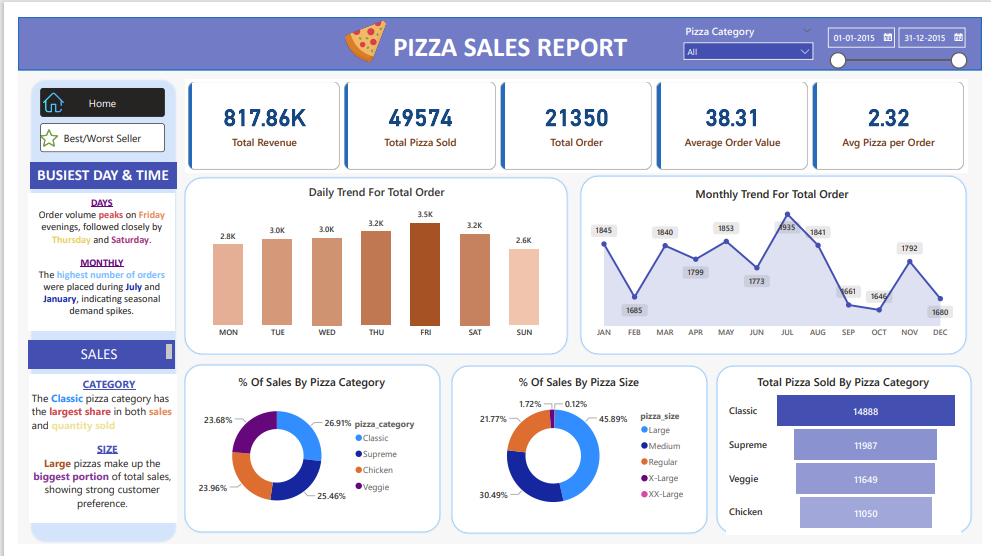

Layout of this report page (visuals, bound fields, positions):
{"tool":"powerbi","page":{"name":"Home","canvas":[1500,820],"ordinal":0},"visuals":[{"type":"cardVisual","fields":{"Data":["pizza_sales.Total_Revenue","pizza_sales.Total_Pizza_Sold","pizza_sales.Total_Order","pizza_sales.Average_Order_Value","pizza_sales.Avg_Pizza_per_Order"]},"box":[260,96,1218,146],"z":0},{"type":"shape","box":[0,0,1500,82],"z":1000},{"type":"textbox","box":[564,14,404,68],"z":2000},{"type":"shape","box":[258,248,598,278],"z":3000},{"type":"columnChart","title":"Daily Trend For Total Order","fields":{"Y":["pizza_sales.Total_Order"],"Category":["pizza_sales.Order Day"]},"box":[268,260,580,250],"z":4000},{"type":"shape","box":[874,246,604,280],"z":5000},{"type":"shape","box":[18,96,230,724],"z":6000},{"type":"areaChart","title":"Monthly Trend For Total Order","fields":{"Y":["pizza_sales.Total_Order"],"Category":["pizza_sales.Order Month"]},"box":[888,262,572,248],"z":7000},{"type":"shape","box":[258,540,400,264],"z":8000},{"type":"shape","box":[674,542,400,264],"z":9000},{"type":"shape","box":[1086,542,400,264],"z":10000},{"type":"donutChart","title":"% Of Sales By Pizza Category","fields":{"Y":["pizza_sales.Total_Revenue"],"Category":["pizza_sales.pizza_category"]},"box":[276,556,362,232],"z":11000},{"type":"donutChart","title":"% Of Sales By Pizza Size","fields":{"Y":["pizza_sales.Total_Revenue"],"Category":["pizza_sales.pizza_size"]},"box":[692,556,362,232],"z":12000},{"type":"funnel","title":"Total Pizza Sold By Pizza Category","fields":{"Y":["pizza_sales.Total_Pizza_Sold"],"Category":["pizza_sales.pizza_category"]},"box":[1102,556,366,250],"z":13000},{"type":"textbox","box":[18,226,228,42],"z":14000},{"type":"textbox","box":[16,504,228,44],"z":15000},{"type":"textbox","box":[16,274,228,214],"z":16000},{"type":"textbox","box":[16,556,230,232],"z":17000},{"type":"slicer","fields":{"Values":["pizza_sales.pizza_category"]},"box":[1026,6,222,70],"z":17001},{"type":"slicer","fields":{"Values":["pizza_sales.order_date"]},"box":[1248,6,238,90],"z":17002},{"type":"pageNavigator","box":[34,110,194,100],"z":17003},{"type":"image","box":[34,96,42,74],"z":17004},{"type":"image","box":[20,170,56,36],"z":17005},{"type":"image","box":[502,0,78,76],"z":17006}]}

Visuals, with their boxes in screenshot pixels (x1, y1, x2, y2), scaled from the page's 1500x820 canvas onto the 991x556 screenshot:
cardVisual - pizza_sales.Total_Revenue x pizza_sales.Total_Pizza_Sold: (172, 65, 976, 164)
shape: (0, 0, 990, 56)
textbox: (373, 9, 640, 56)
shape: (170, 168, 566, 357)
"Daily Trend For Total Order" columnChart: (177, 176, 560, 346)
shape: (577, 167, 976, 357)
shape: (12, 65, 164, 555)
"Monthly Trend For Total Order" areaChart: (587, 178, 965, 346)
shape: (170, 366, 435, 545)
shape: (445, 368, 710, 547)
shape: (717, 368, 982, 547)
"% Of Sales By Pizza Category" donutChart: (182, 377, 422, 534)
"% Of Sales By Pizza Size" donutChart: (457, 377, 696, 534)
"Total Pizza Sold By Pizza Category" funnel: (728, 377, 970, 547)
textbox: (12, 153, 163, 182)
textbox: (11, 342, 161, 372)
textbox: (11, 186, 161, 331)
textbox: (11, 377, 163, 534)
slicer - pizza_sales.pizza_category: (678, 4, 825, 52)
slicer - pizza_sales.order_date: (825, 4, 982, 65)
pageNavigator: (22, 75, 151, 142)
image: (22, 65, 50, 115)
image: (13, 115, 50, 140)
image: (332, 0, 383, 52)
